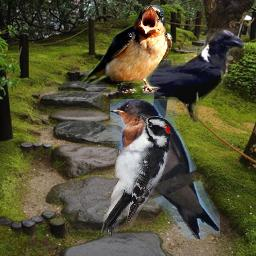Crow: (140, 28, 246, 122)
Swallow: (110, 99, 220, 239), (81, 4, 173, 93)
Woodpecker: (100, 113, 170, 237)
